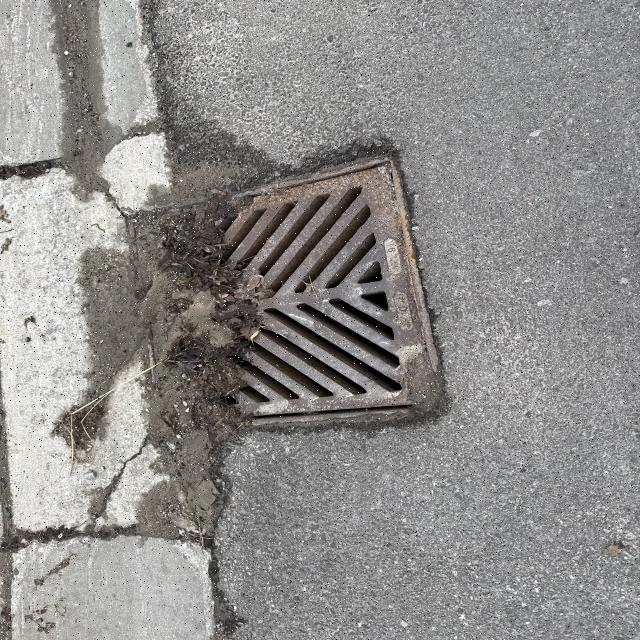Manhole: (180, 162, 446, 432)
